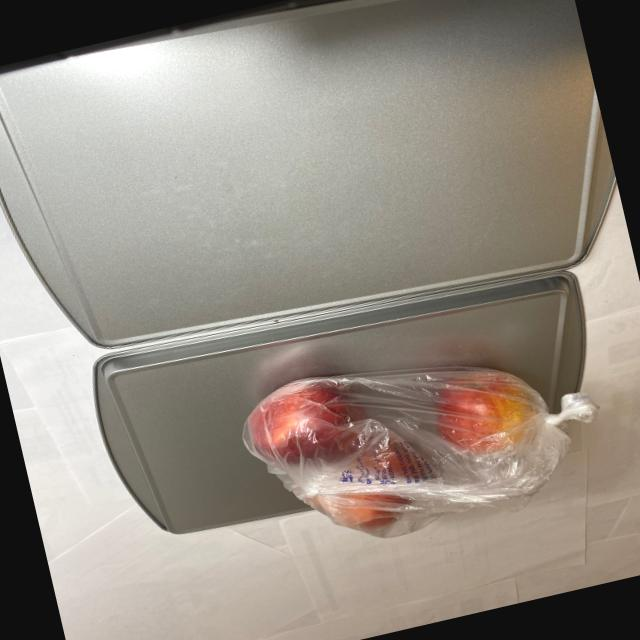apple: (234, 319, 580, 554)
